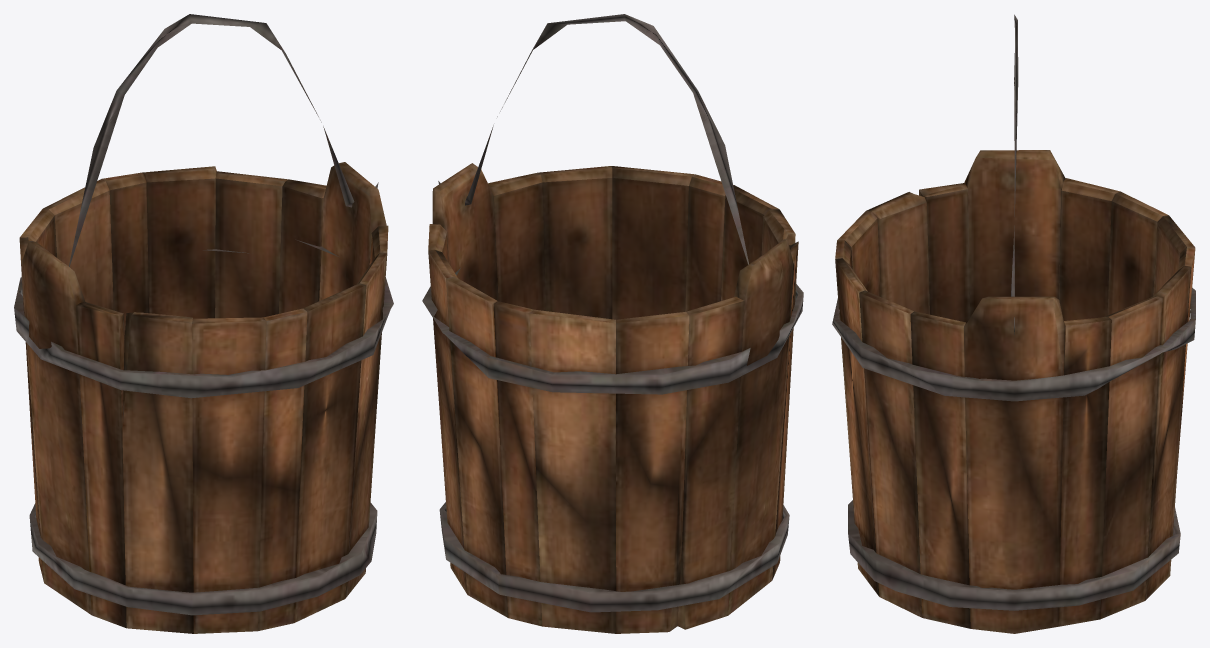
Rendered from wooden_bucket_01.glb.
The picture shows the model from 3 angles, left to right: view 1: azimuth 30°, elevation 25°; view 2: azimuth 150°, elevation 25°; view 3: azimuth 270°, elevation 25°; orthographic projection. The views are drawn at different scales.
Parts seen in each view (by area): view 1: wooden_bucket_01, wooden_bucket_01_handle; view 2: wooden_bucket_01, wooden_bucket_01_handle; view 3: wooden_bucket_01, wooden_bucket_01_handle.
Part boxes in pixels (box(x1,y1,x2,y2)): wooden_bucket_01: box(14, 162, 393, 633); wooden_bucket_01_handle: box(69, 14, 378, 266); wooden_bucket_01: box(422, 163, 803, 633); wooden_bucket_01_handle: box(438, 14, 748, 264); wooden_bucket_01: box(832, 150, 1195, 633); wooden_bucket_01_handle: box(1011, 14, 1018, 334).
Bounding box in the file's own units: 0.3522 × 0.5483 × 0.3354.
1 material, 1 textured.
